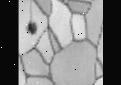good_void: (25, 20, 39, 34)
